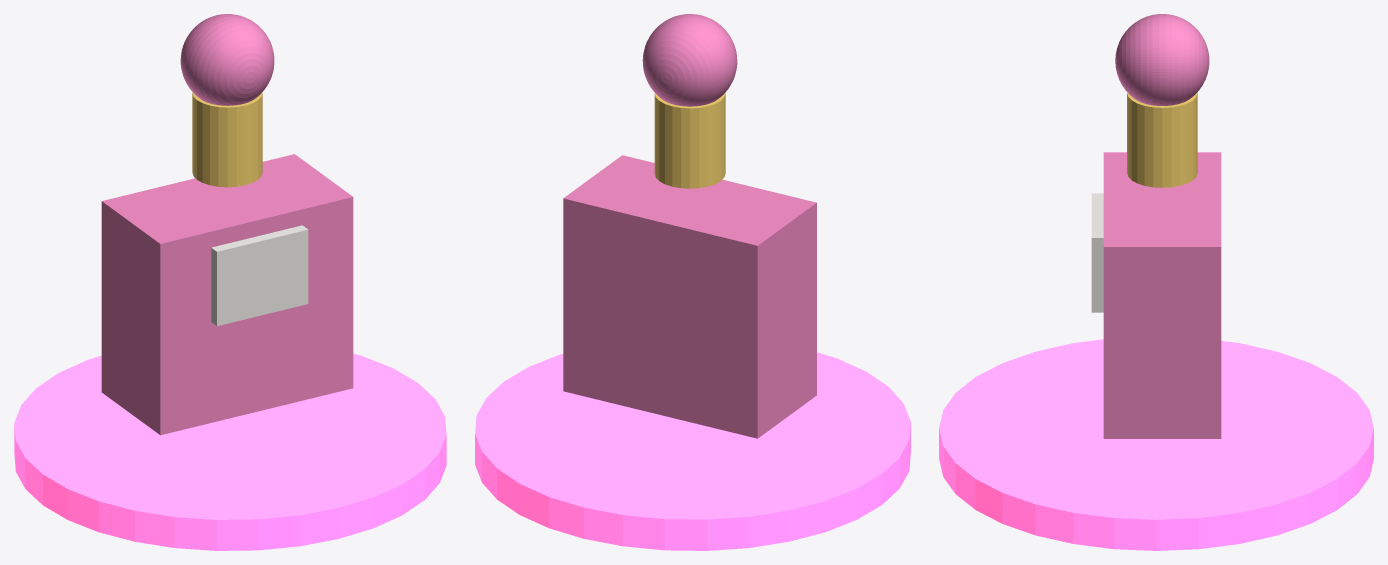
File: beauty_perfume.glb
The picture shows the model from 3 angles, left to right: view 1: azimuth 30°, elevation 25°; view 2: azimuth 150°, elevation 25°; view 3: azimuth 270°, elevation 25°; orthographic projection.
Visible parts, largest first — view 1: 03_03_Popular_Beauty_Perfume_ROOT_base, 03_03_Popular_Beauty_Perfume_part_01, 03_03_Popular_Beauty_Perfume_part_04, 03_03_Popular_Beauty_Perfume_part_03, 03_03_Popular_Beauty_Perfume_part_02; view 2: 03_03_Popular_Beauty_Perfume_part_01, 03_03_Popular_Beauty_Perfume_ROOT_base, 03_03_Popular_Beauty_Perfume_part_03, 03_03_Popular_Beauty_Perfume_part_02; view 3: 03_03_Popular_Beauty_Perfume_ROOT_base, 03_03_Popular_Beauty_Perfume_part_01, 03_03_Popular_Beauty_Perfume_part_03, 03_03_Popular_Beauty_Perfume_part_02, 03_03_Popular_Beauty_Perfume_part_04.
Part boxes in pixels (x1,y1,x2,y2): 03_03_Popular_Beauty_Perfume_ROOT_base: [14, 353, 446, 550]; 03_03_Popular_Beauty_Perfume_part_01: [101, 154, 353, 435]; 03_03_Popular_Beauty_Perfume_part_04: [211, 225, 308, 326]; 03_03_Popular_Beauty_Perfume_part_03: [180, 14, 274, 105]; 03_03_Popular_Beauty_Perfume_part_02: [192, 92, 262, 187]; 03_03_Popular_Beauty_Perfume_part_01: [563, 155, 816, 438]; 03_03_Popular_Beauty_Perfume_ROOT_base: [475, 352, 910, 550]; 03_03_Popular_Beauty_Perfume_part_03: [642, 14, 737, 106]; 03_03_Popular_Beauty_Perfume_part_02: [654, 93, 725, 188]; 03_03_Popular_Beauty_Perfume_ROOT_base: [939, 339, 1373, 550]; 03_03_Popular_Beauty_Perfume_part_01: [1103, 152, 1221, 438]; 03_03_Popular_Beauty_Perfume_part_03: [1115, 14, 1209, 105]; 03_03_Popular_Beauty_Perfume_part_02: [1127, 92, 1197, 187]; 03_03_Popular_Beauty_Perfume_part_04: [1091, 193, 1103, 312].
Size of the model in its own units: 0.76 by 0.85 by 0.76.
